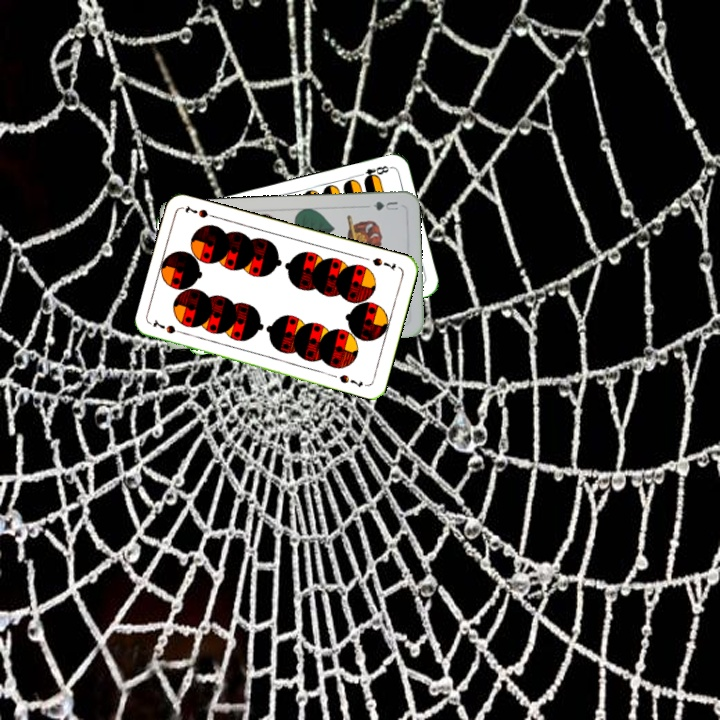E8: (353, 161, 393, 184)
GU: (369, 197, 401, 213)
S7: (149, 316, 188, 337), (368, 254, 398, 273)
